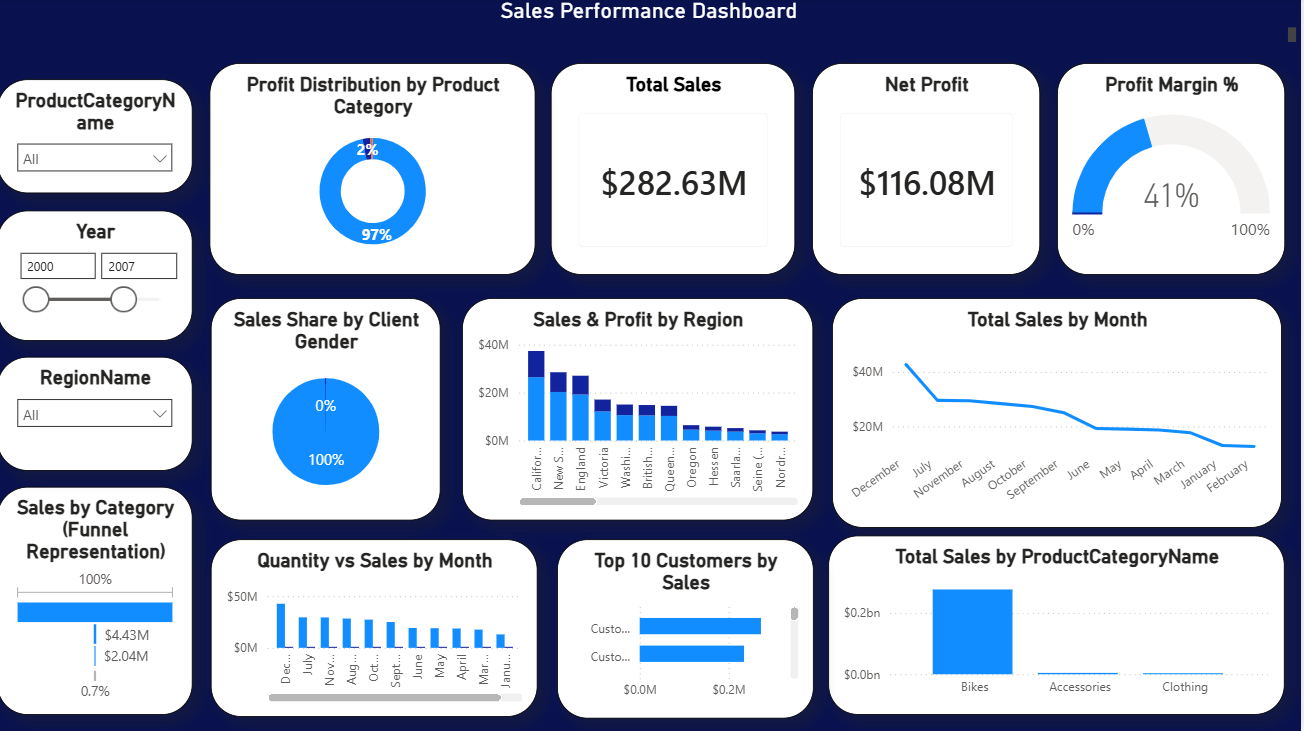

The page's visual inventory and layout, read from the dashboard file:
{"tool":"powerbi","page":{"name":"Page 1","canvas":[1280,720],"ordinal":0},"visuals":[{"type":"cardVisual","title":"Total Sales","fields":{"Data":["factSalesTable1.Total Sales"]},"box":[544,64,240,208],"z":0},{"type":"cardVisual","title":"Net Profit","fields":{"Data":["factSalesTable1.Net Profit"]},"box":[800,64,224,208],"z":1000},{"type":"gauge","title":"Profit Margin %","fields":{"Y":["factSalesTable1.Profit Margin %"]},"box":[1040,64,224,208],"z":2000},{"type":"lineChart","fields":{"Y":["factSalesTable1.Total Sales"],"Category":["calender.Month"]},"box":[819.4,294.8,441.5,225.6],"z":3000},{"type":"slicer","title":"Year","fields":{"Values":["calender.Year"]},"box":[0,208,192,128],"z":4000},{"type":"clusteredColumnChart","fields":{"Category":["dimProductCategoryTable7.ProductCategoryName"],"Y":["factSalesTable1.Total Sales"]},"box":[816,528,448,176],"z":5000},{"type":"clusteredBarChart","title":"Top 10 Customers by Sales","fields":{"Category":["dimCustomerTable2.CustomerName"],"Y":["factSalesTable1.Total Sales"]},"box":[549.5,531.5,251.9,175.8],"z":6000},{"type":"columnChart","title":"Sales & Profit by Region","fields":{"Category":["dimRegionTable4.Region"],"Y":["factSalesTable1.Total Sales","factSalesTable1.Net Profit"]},"box":[456.7,294.8,344.6,218.7],"z":7000},{"type":"clusteredColumnChart","title":"Quantity vs Sales by Month","fields":{"Category":["calender.Month"],"Y":["factSalesTable1.Total Sales","factSalesTable1.Total Quantity Sold"]},"box":[210.4,531.5,321.1,174.4],"z":8000},{"type":"pieChart","title":"Sales Share by Client Gender","fields":{"Category":["factSalesTable1.Gender"],"Y":["factSalesTable1.Total Sales"]},"box":[210.4,294.8,225.6,218.7],"z":9000},{"type":"donutChart","title":"Profit Distribution by Product Category","fields":{"Category":["dimProductCategoryTable7.ProductCategoryName"],"Y":["factSalesTable1.Net Profit"]},"box":[208,64,320,208],"z":10000},{"type":"funnel","title":"Sales by Category (Funnel Representation)","fields":{"Category":["dimProductCategoryTable7.ProductCategoryName"],"Y":["factSalesTable1.Total Sales"]},"box":[0,480,192,224],"z":11000},{"type":"slicer","title":"RegionName","fields":{"Values":["dimRegionTable4.Region"]},"box":[0,352,192,112],"z":12000},{"type":"slicer","title":"ProductCategoryName","fields":{"Values":["dimProductCategoryTable7.ProductCategoryName"]},"box":[0,80,192,112],"z":13000},{"type":"textbox","title":"Sales Performance Dashboard","box":[0,0,1280,48],"z":14000}]}

Visuals, with their boxes in screenshot pixels (x1, y1, x2, y2), scaled from the page's 1280x720 canvas onto the 1304x731 screenshot:
"Total Sales" cardVisual: (554, 65, 799, 276)
"Net Profit" cardVisual: (815, 65, 1043, 276)
"Profit Margin %" gauge: (1060, 65, 1288, 276)
lineChart - factSalesTable1.Total Sales x calender.Month: (835, 299, 1285, 528)
"Year" slicer: (0, 211, 196, 341)
clusteredColumnChart - dimProductCategoryTable7.ProductCategoryName x factSalesTable1.Total Sales: (831, 536, 1288, 715)
"Top 10 Customers by Sales" clusteredBarChart: (560, 540, 816, 718)
"Sales & Profit by Region" columnChart: (465, 299, 816, 521)
"Quantity vs Sales by Month" clusteredColumnChart: (214, 540, 541, 717)
"Sales Share by Client Gender" pieChart: (214, 299, 444, 521)
"Profit Distribution by Product Category" donutChart: (212, 65, 538, 276)
"Sales by Category (Funnel Representation)" funnel: (0, 487, 196, 715)
"RegionName" slicer: (0, 357, 196, 471)
"ProductCategoryName" slicer: (0, 81, 196, 195)
"Sales Performance Dashboard" textbox: (0, 0, 1303, 49)
